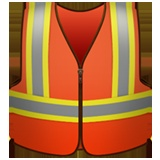safety vest: (11, 2, 149, 156)
